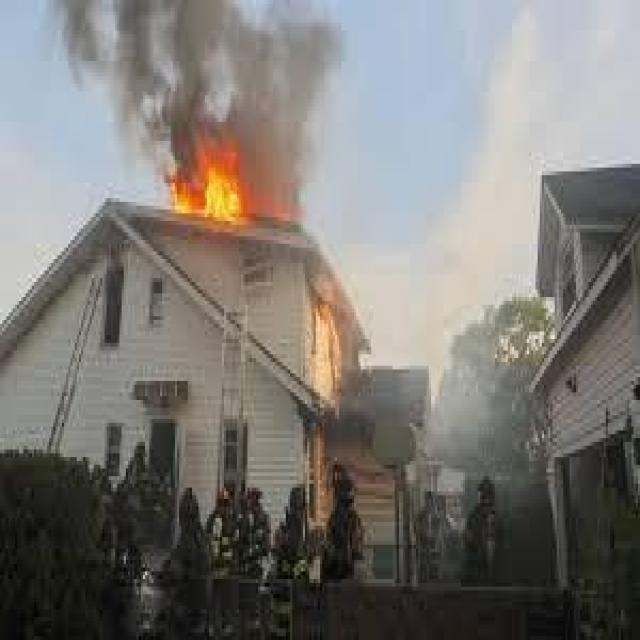Fire: (168, 152, 242, 232), (310, 314, 346, 408)
Smoke: (72, 0, 339, 152)
